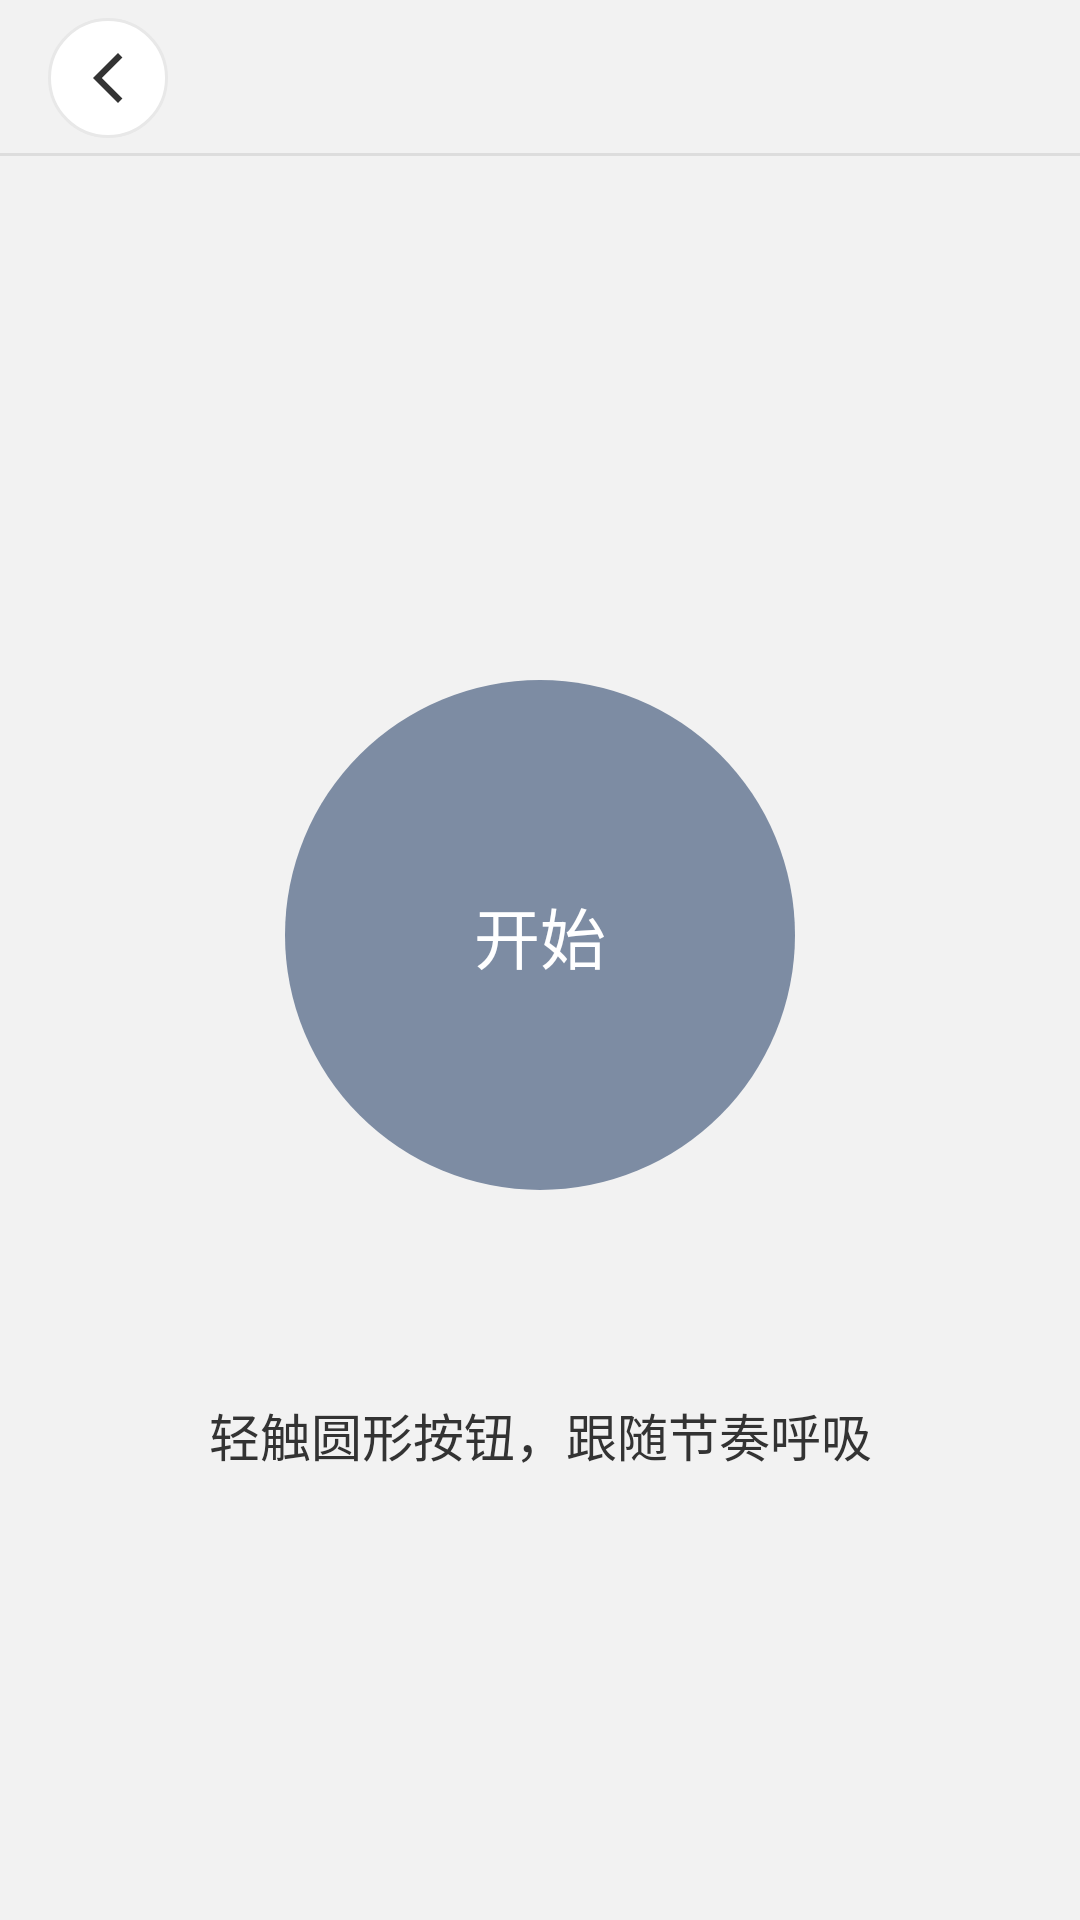

Icons on this 1080*1920 Android screen, each with the point to tap as (x,y):
返回: (108,78)
